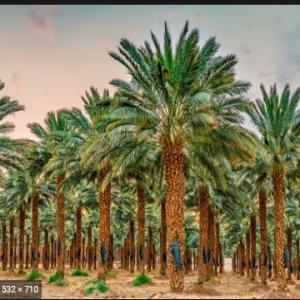palm tree: (103, 19, 256, 291), (243, 82, 299, 290), (0, 69, 27, 275)
